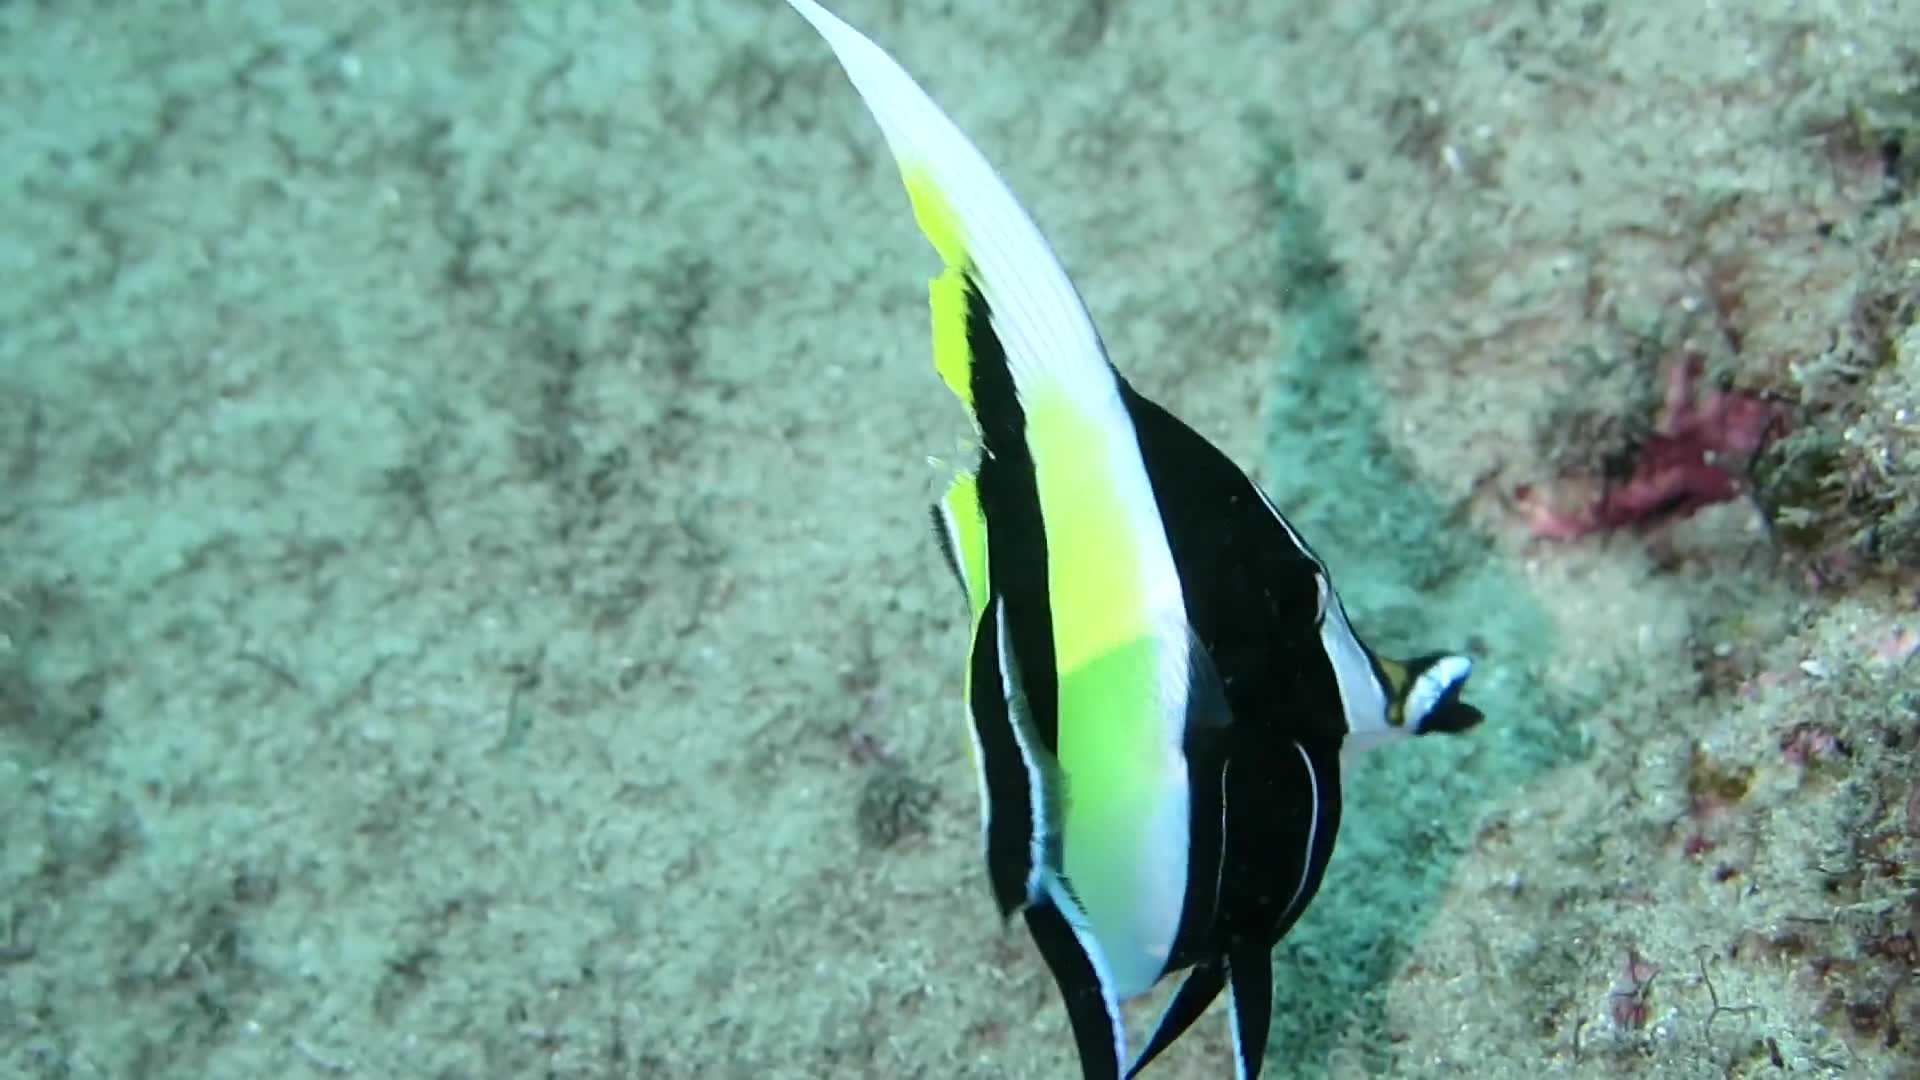Zanclus cornutus: (874, 225, 1487, 1080)
